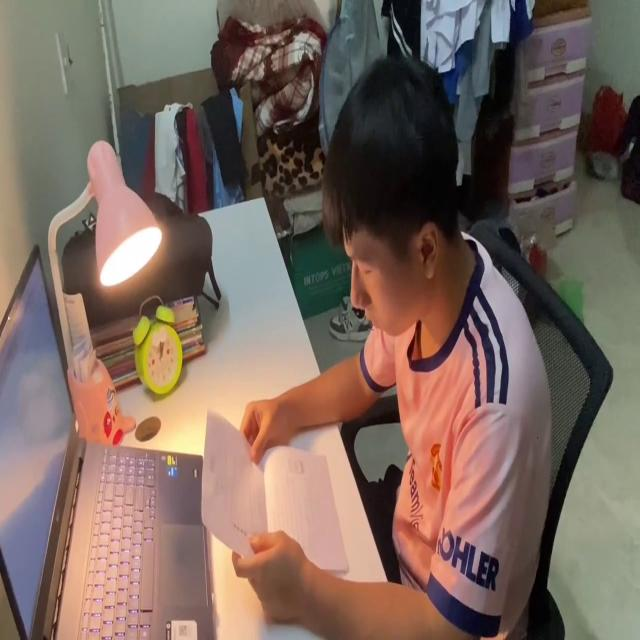book: (201, 406, 348, 576)
laptop: (0, 235, 211, 640)
student: (233, 55, 548, 640)
